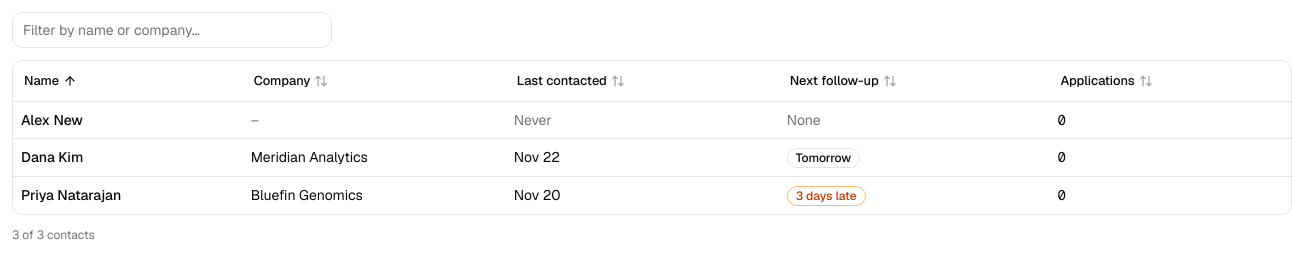
ContactsTable › filters by name or company
Type "meridian" into the search field labelled "Filter by name or company" at (172, 30), box [12,12,332,48]
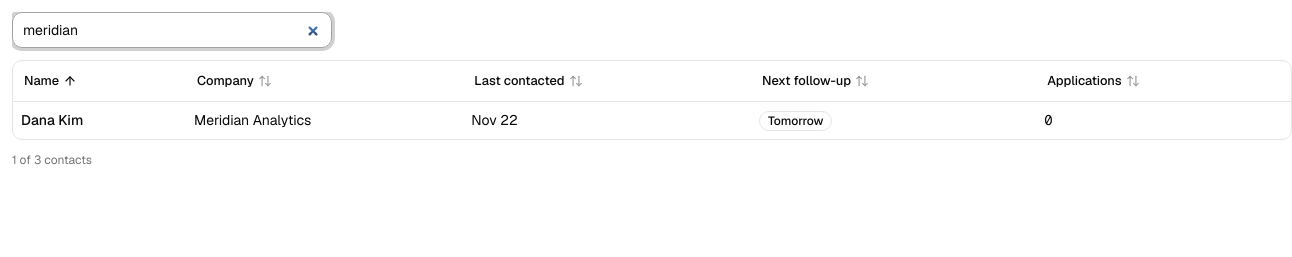
Check: the text "1 of 3 contacts" is shown, box [12,152,92,168]
Replace the text in the search field with "zzz" at (172, 30), box [12,12,332,48]
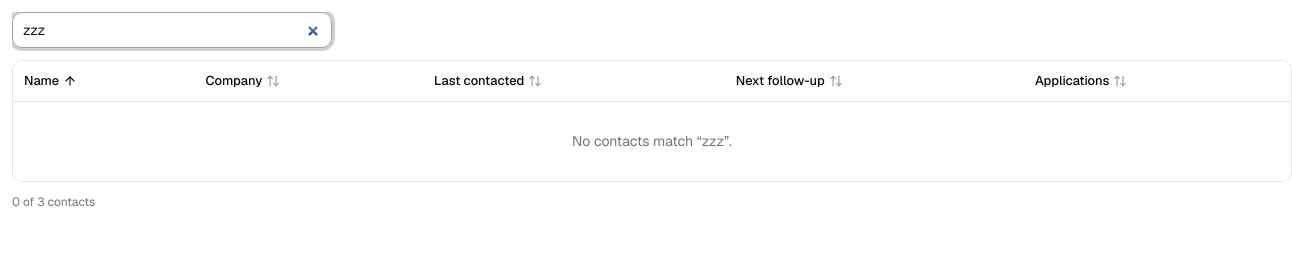
Check: the text "No contacts match “zzz”." is shown, box [13,101,1291,181]
